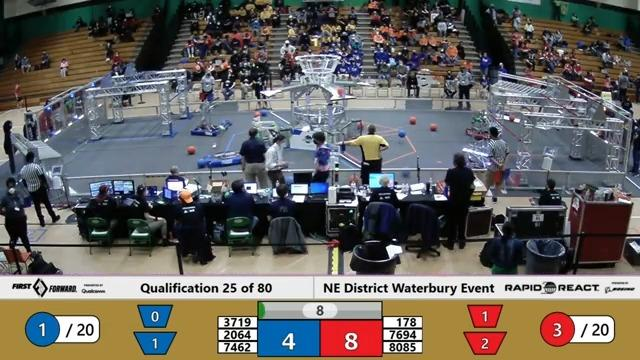robot: (207, 118, 248, 169), (191, 92, 231, 138), (251, 116, 282, 167), (462, 141, 495, 172), (466, 107, 496, 139)
